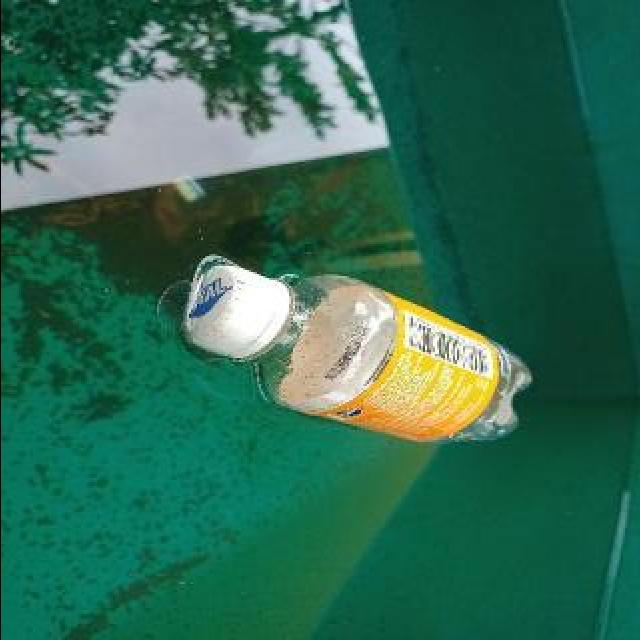Bottle: (177, 250, 540, 457)
